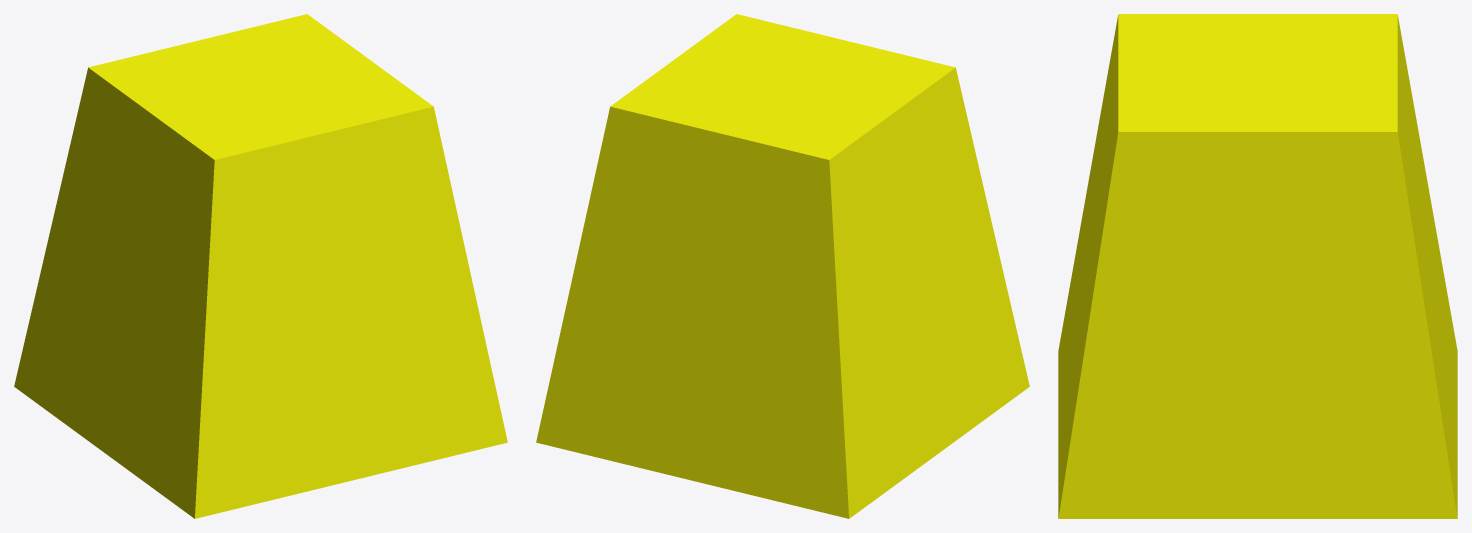
Rendered from kaykit-rock-2-a-color-1.glb.
3 views of the same model, side by side, from view 1: azimuth 30°, elevation 25°; view 2: azimuth 150°, elevation 25°; view 3: azimuth 270°, elevation 25° (orthographic). The views are drawn at different scales.
Parts seen in each view (by area): view 1: Rock_2_A_Color1; view 2: Rock_2_A_Color1; view 3: Rock_2_A_Color1.
Boxes of the visible parts, x1=… form: Rock_2_A_Color1: x1=14, y1=14, x2=507, y2=518; Rock_2_A_Color1: x1=536, y1=14, x2=1029, y2=518; Rock_2_A_Color1: x1=1058, y1=14, x2=1457, y2=518.
Size of the model in its own units: 0.2156 by 0.2156 by 0.2156.
